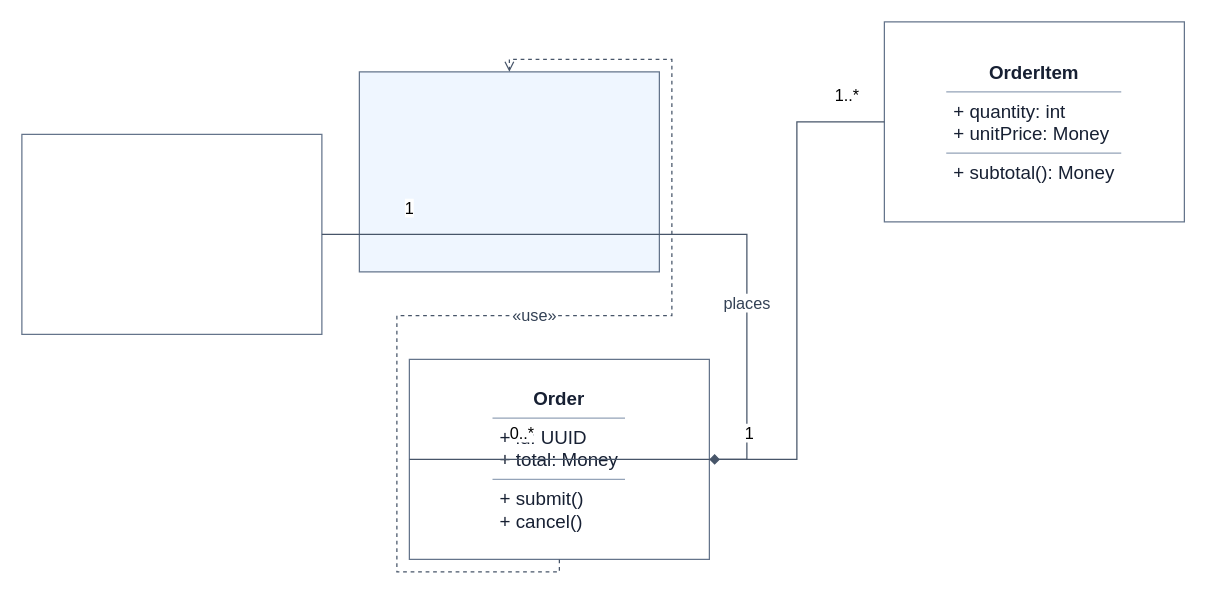
The diagram is 1206 pixels wide and 604 high, and some of its shapes have lost their labels. Each missing label, with the centre of its shape:
"Customer + id: UUID + name: String + placeOrder(): Order" goes at pixel 171 233.
"«interface» PaymentGateway + charge(total: Money): Receipt" goes at pixel 508 171.
